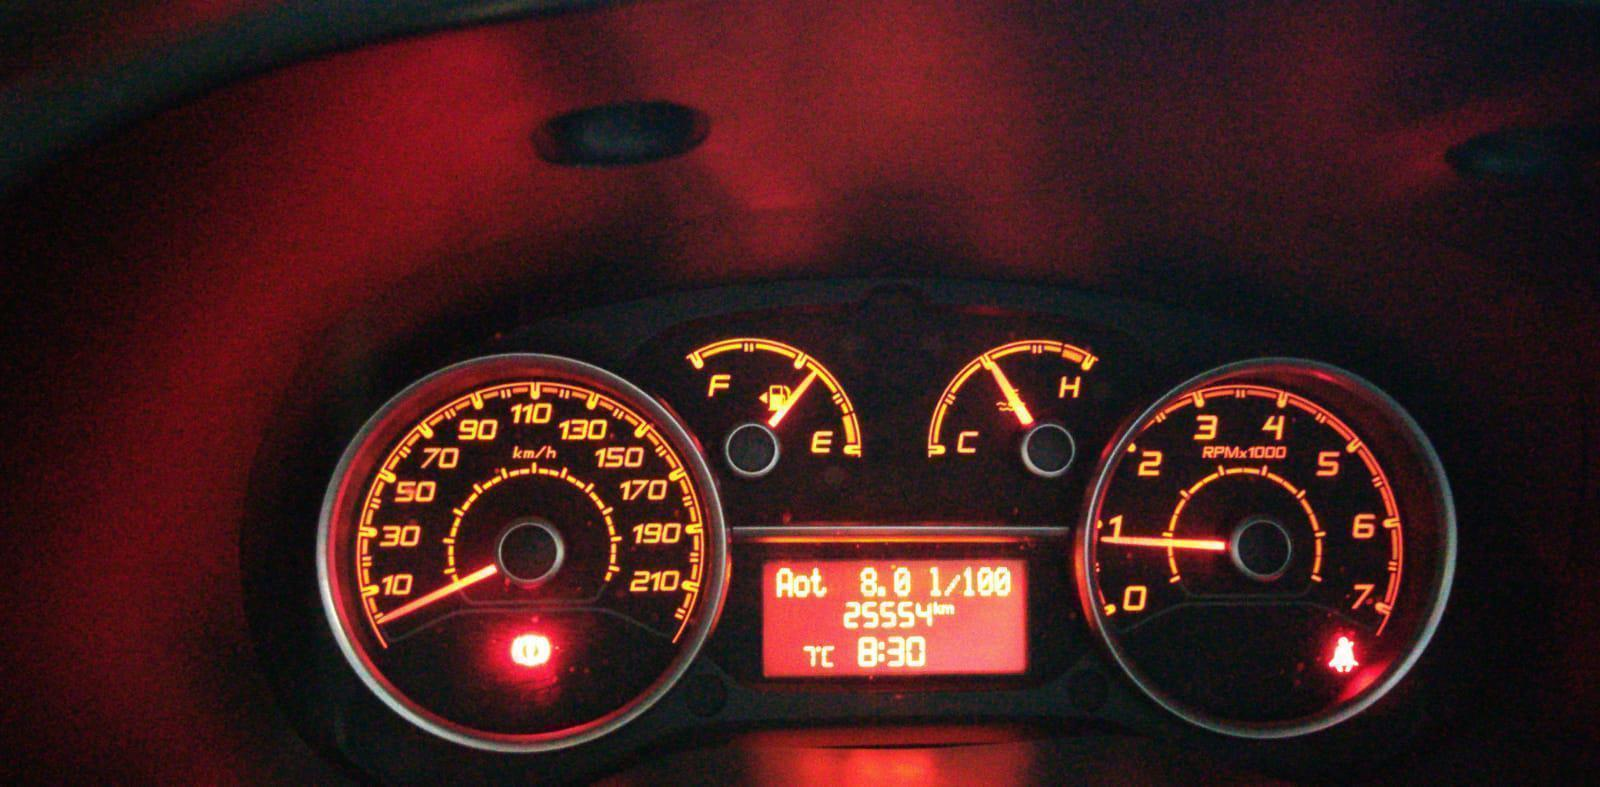,: (876, 585, 886, 597)
0: (905, 634, 926, 667), (993, 565, 1012, 597), (893, 565, 911, 597), (976, 565, 993, 597)
1: (962, 565, 976, 597)
2: (842, 600, 861, 629)
3: (886, 635, 906, 667)
4: (915, 601, 933, 628)
5: (860, 600, 879, 629), (879, 600, 897, 628), (897, 601, 915, 628)
7: (802, 644, 817, 668)
8: (857, 636, 878, 668), (859, 565, 877, 597)
X: (776, 567, 794, 598), (810, 565, 827, 599), (928, 565, 942, 597), (943, 574, 961, 597), (794, 574, 810, 599), (820, 644, 835, 668), (878, 640, 886, 662), (941, 603, 955, 614), (933, 600, 941, 614)
odometer: (758, 556, 1031, 681)
